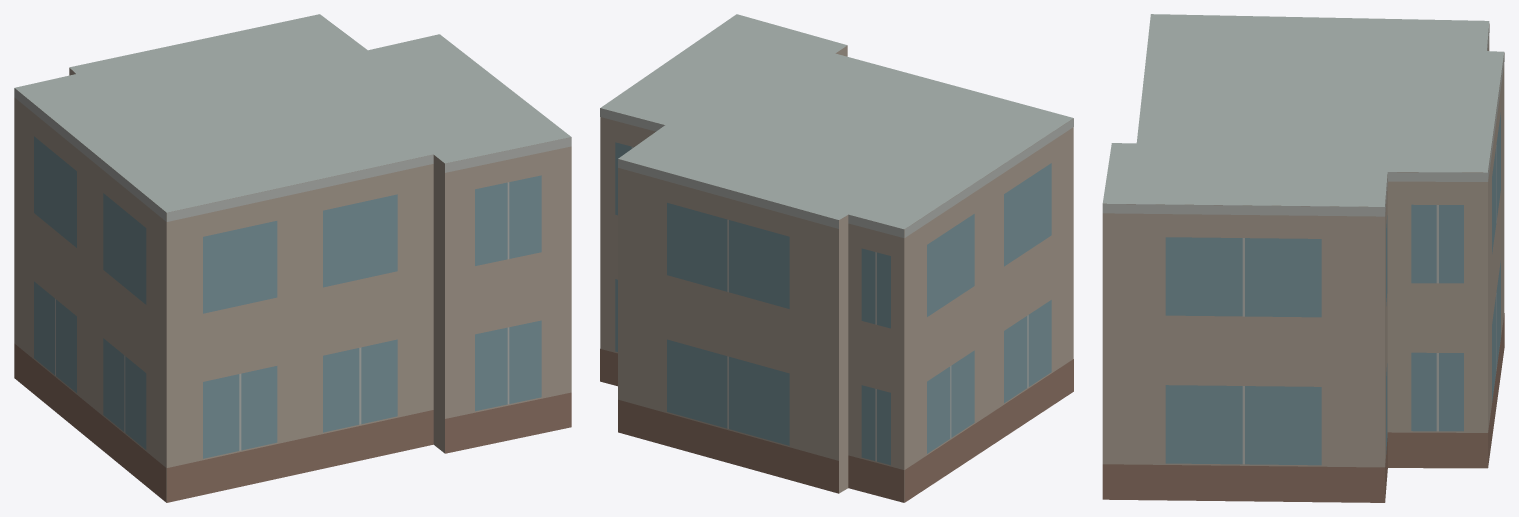
Rendered from survey-upis-32505497.glb.
The picture shows the model from 3 angles, left to right: view 1: azimuth 30°, elevation 25°; view 2: azimuth 150°, elevation 25°; view 3: azimuth 270°, elevation 25°; orthographic projection. The views are drawn at different scales.
Visible parts, largest first — view 1: survey-upis-32505497.tmp; view 2: survey-upis-32505497.tmp; view 3: survey-upis-32505497.tmp.
Part boxes in pixels (x1,y1,x2,y2): survey-upis-32505497.tmp: [14, 14, 571, 502]; survey-upis-32505497.tmp: [600, 14, 1073, 502]; survey-upis-32505497.tmp: [1102, 14, 1504, 502].
Size of the model in its own units: 10.5 by 7.5 by 9.24.
